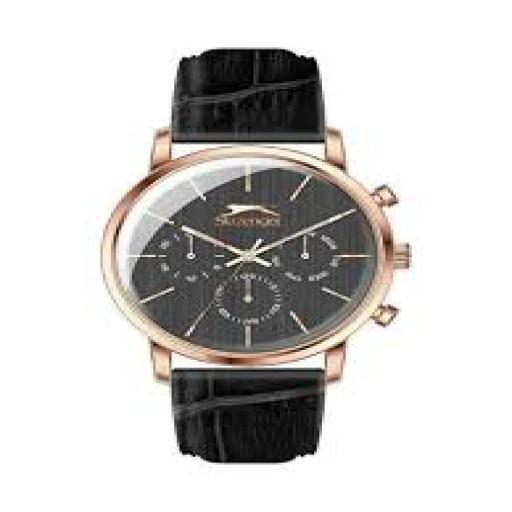KolSaati: (68, 20, 464, 468)
